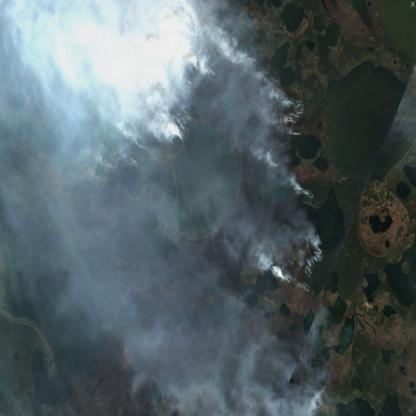fire: (103, 50, 304, 190), (278, 236, 326, 294), (297, 369, 328, 416)
